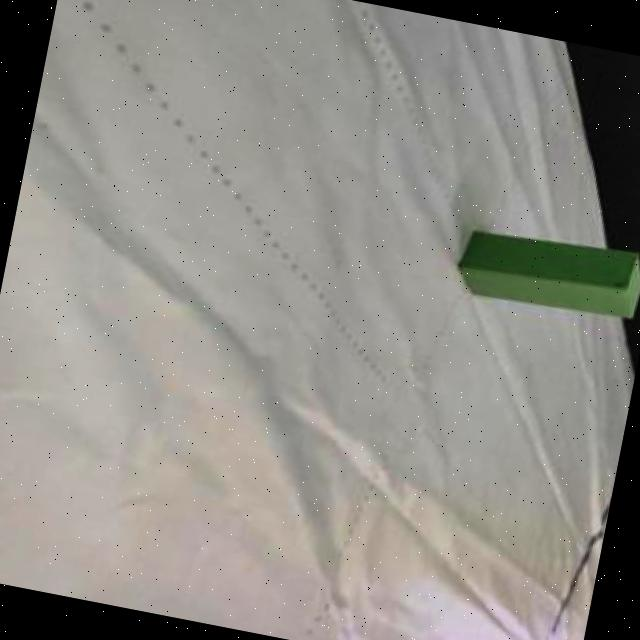greenbox: (450, 218, 640, 325)
